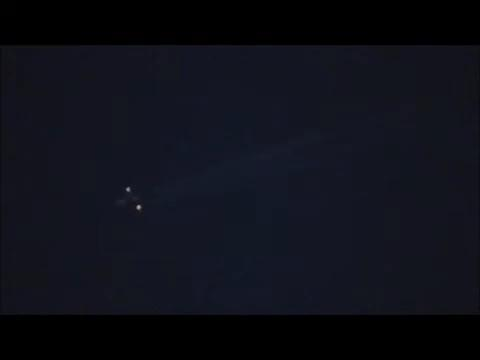Plane: (93, 175, 169, 223)
